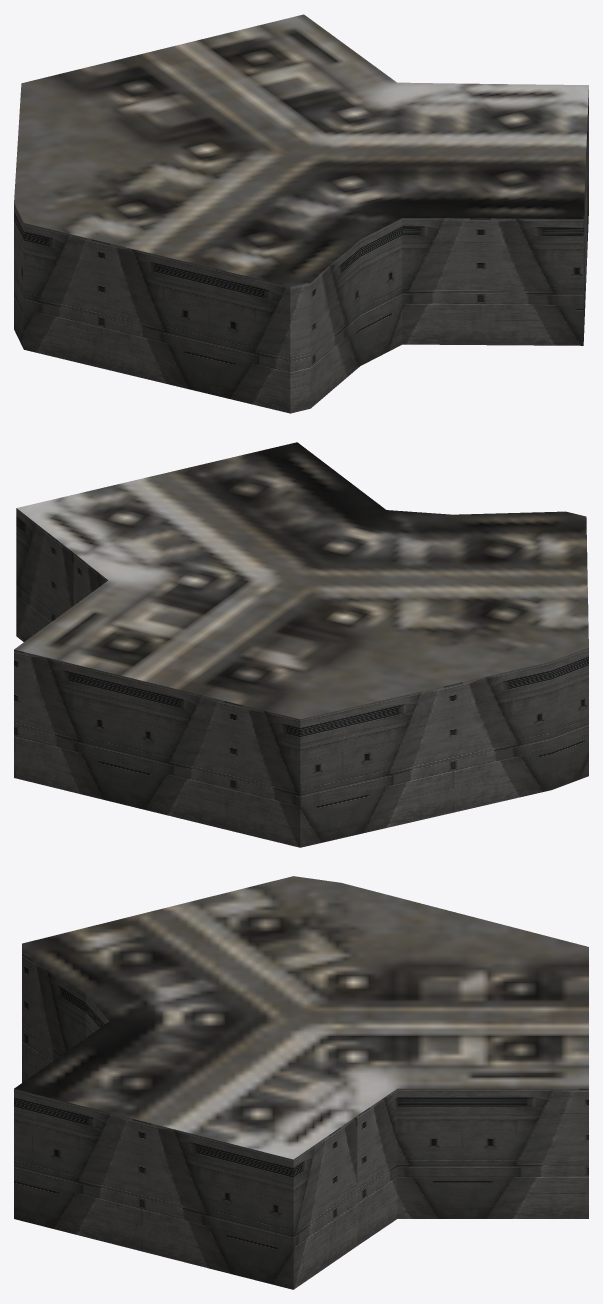
File: fortress_hard_53.glb
The picture shows the model from 3 angles, top to bottom: view 1: azimuth 30°, elevation 25°; view 2: azimuth 150°, elevation 25°; view 3: azimuth 270°, elevation 25°; orthographic projection. The views are drawn at different scales.
Parts seen in each view (by area): view 1: buildings/saxarba/fortress_hard/fortress_hard_53; view 2: buildings/saxarba/fortress_hard/fortress_hard_53; view 3: buildings/saxarba/fortress_hard/fortress_hard_53.
Boxes of the visible parts, x1=… form: buildings/saxarba/fortress_hard/fortress_hard_53: x1=14, y1=14, x2=588, y2=413; buildings/saxarba/fortress_hard/fortress_hard_53: x1=14, y1=442, x2=588, y2=847; buildings/saxarba/fortress_hard/fortress_hard_53: x1=14, y1=876, x2=588, y2=1289.
Size of the model in its own units: 84 by 18 by 72.
